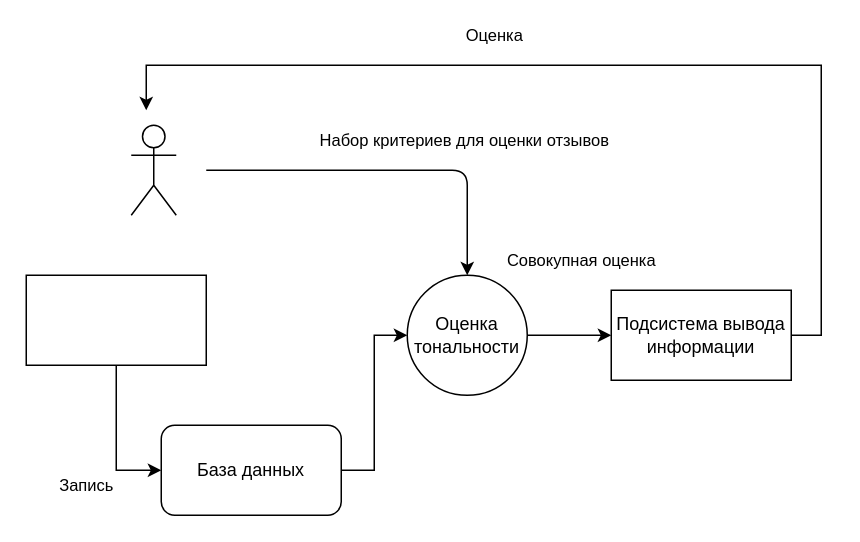
The diagram is 860 pixels wide and 542 high, and some of its shapes have lost their labels. Each missing label, with the box of its shape:
Подсистема сбора информации из открытых источников: (25, 274, 206, 365)
Пользователь: (130, 124, 176, 215)
